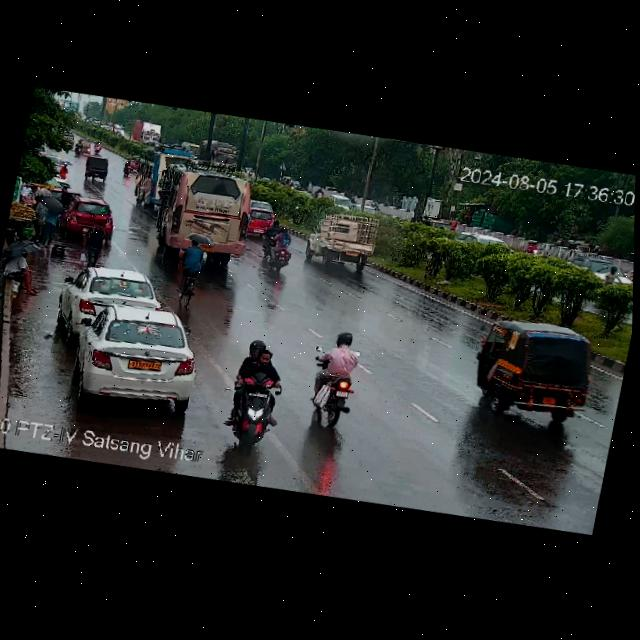bus: (148, 154, 260, 270), (129, 139, 194, 215)
car: (466, 309, 609, 433), (67, 296, 210, 415), (60, 258, 160, 334), (56, 191, 119, 247), (240, 192, 281, 240), (82, 152, 113, 181)
motorcycle: (217, 336, 295, 454), (302, 323, 366, 430), (260, 222, 299, 271), (121, 154, 133, 178), (523, 240, 541, 256), (72, 139, 84, 158), (94, 137, 104, 154)
person: (0, 242, 47, 300), (74, 221, 113, 271), (29, 192, 63, 247), (58, 159, 72, 181)
truck: (299, 205, 385, 277), (196, 137, 240, 169), (128, 116, 163, 147)
